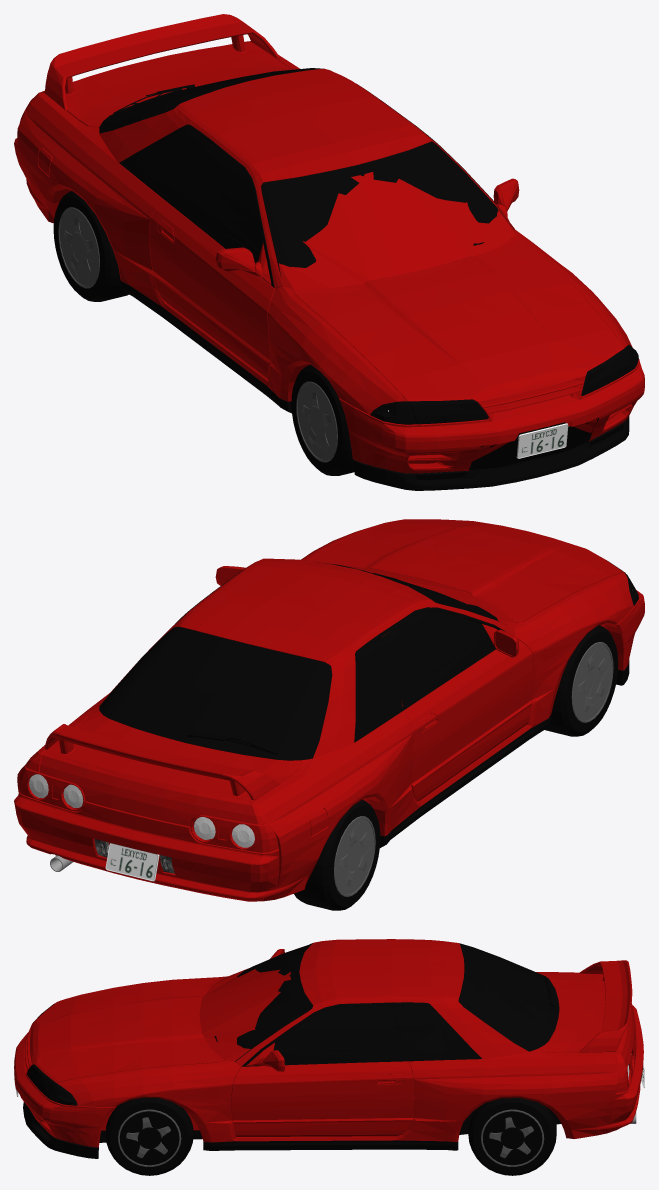
Rendered from asset.glb.
3 renders of one model, top to bottom at view 1: azimuth 30°, elevation 25°; view 2: azimuth 150°, elevation 25°; view 3: azimuth 270°, elevation 25°, orthographic. The views are drawn at different scales.
Size of the model in its own units: 0.2101 by 0.1416 by 0.5.
16 materials, 2 textured.
